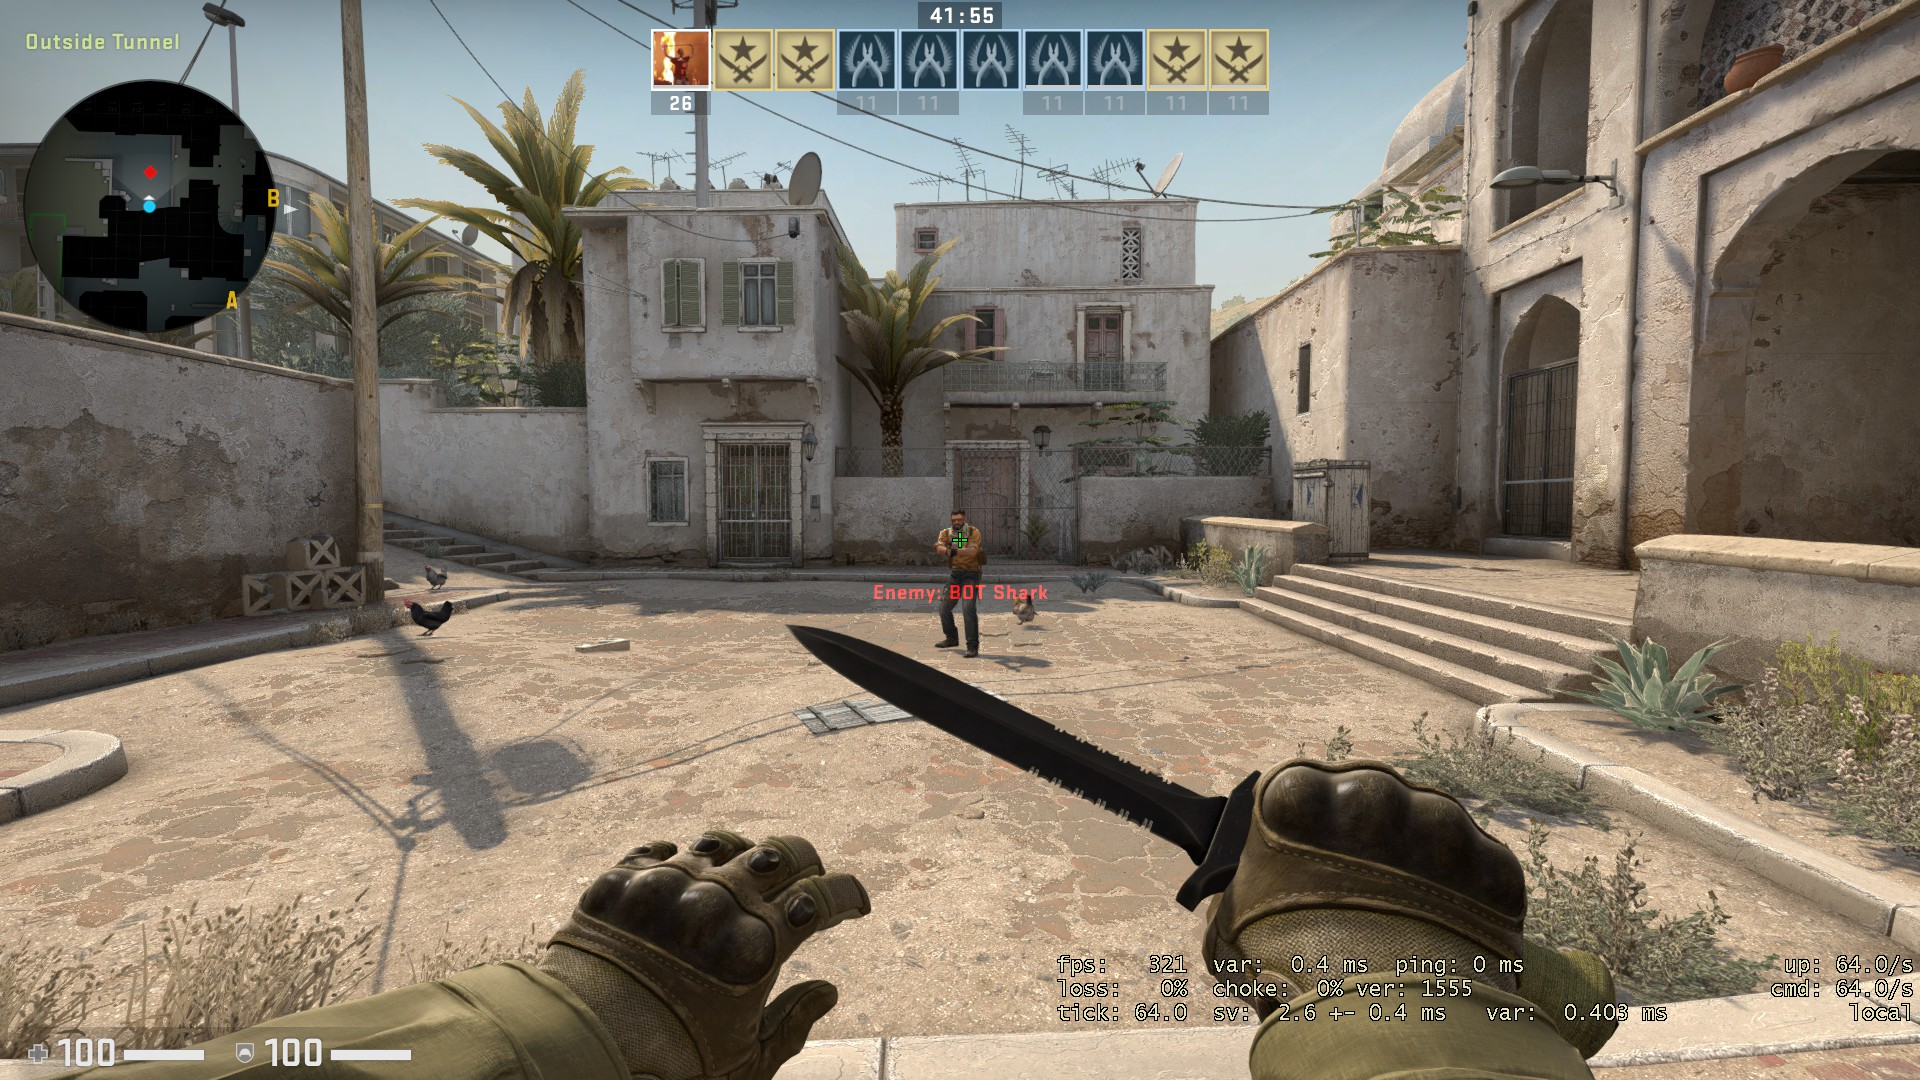player: (925, 504, 990, 663)
